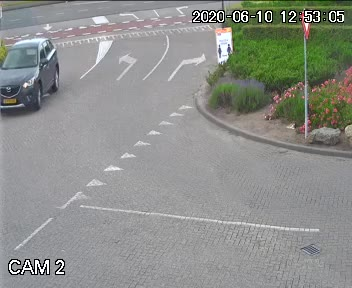car: (0, 37, 63, 111)
